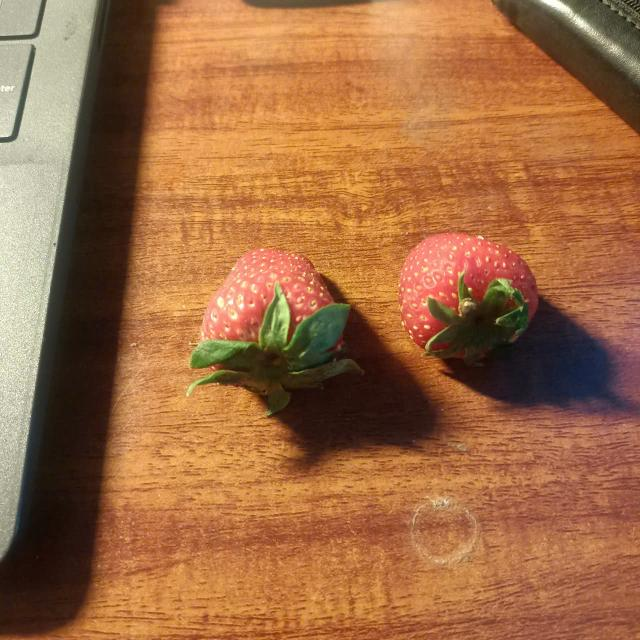DauTay: (183, 233, 373, 422), (395, 222, 553, 370)
